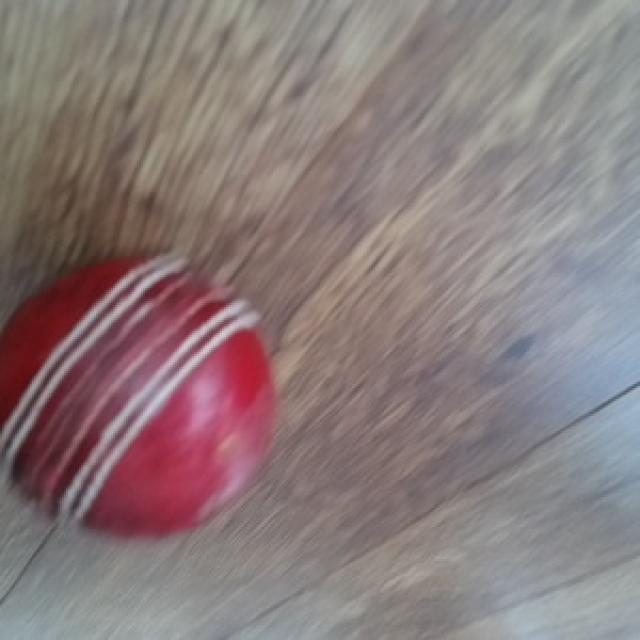ball: (0, 254, 279, 544)
